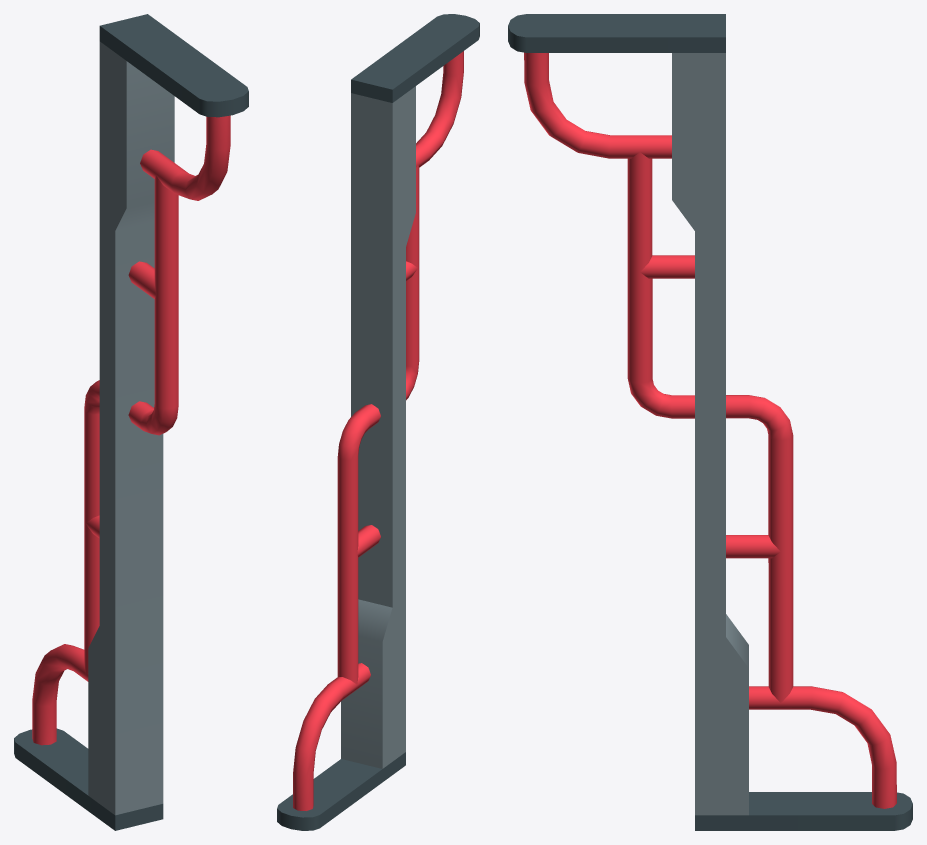
The model's file is Column_008.glb.
The picture shows the model from 3 angles, left to right: view 1: azimuth 30°, elevation 25°; view 2: azimuth 150°, elevation 25°; view 3: azimuth 270°, elevation 25°; orthographic projection. The views are drawn at different scales.
Parts seen in each view (by area): view 1: Column_008; view 2: Column_008; view 3: Column_008.
Boxes of the visible parts, box(x1,y1,x2,y2) form: Column_008: box(14, 14, 248, 830); Column_008: box(277, 14, 479, 830); Column_008: box(508, 14, 912, 830).
Size of the model in its own units: 0.2406 by 3.8 by 1.76.
1 material, 1 textured.
